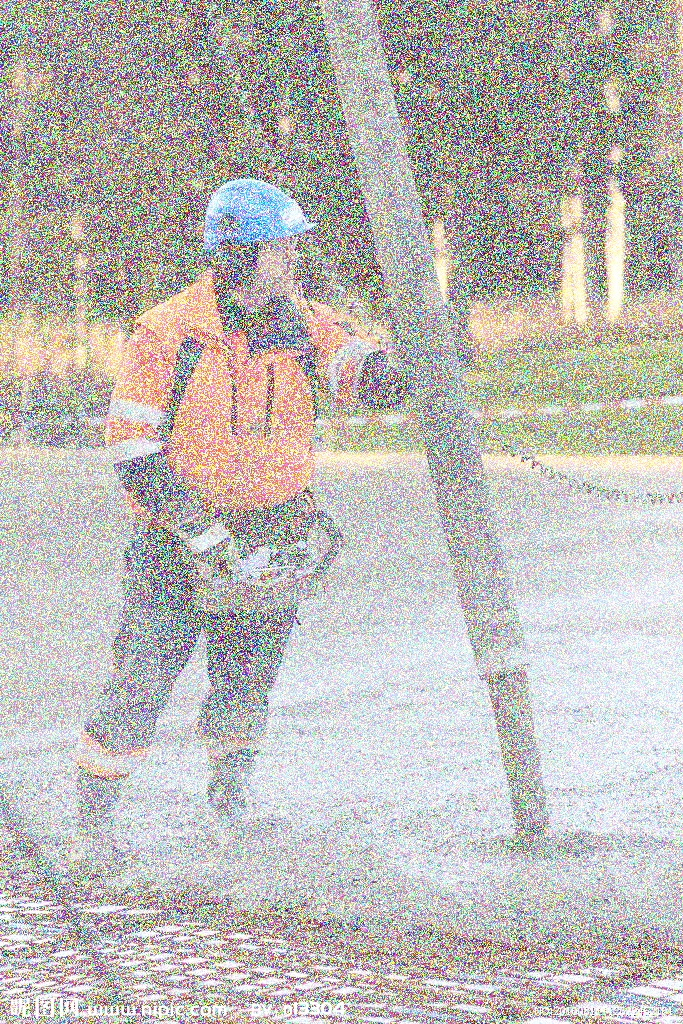helmet: (198, 173, 320, 298)
vest: (106, 290, 378, 500)
